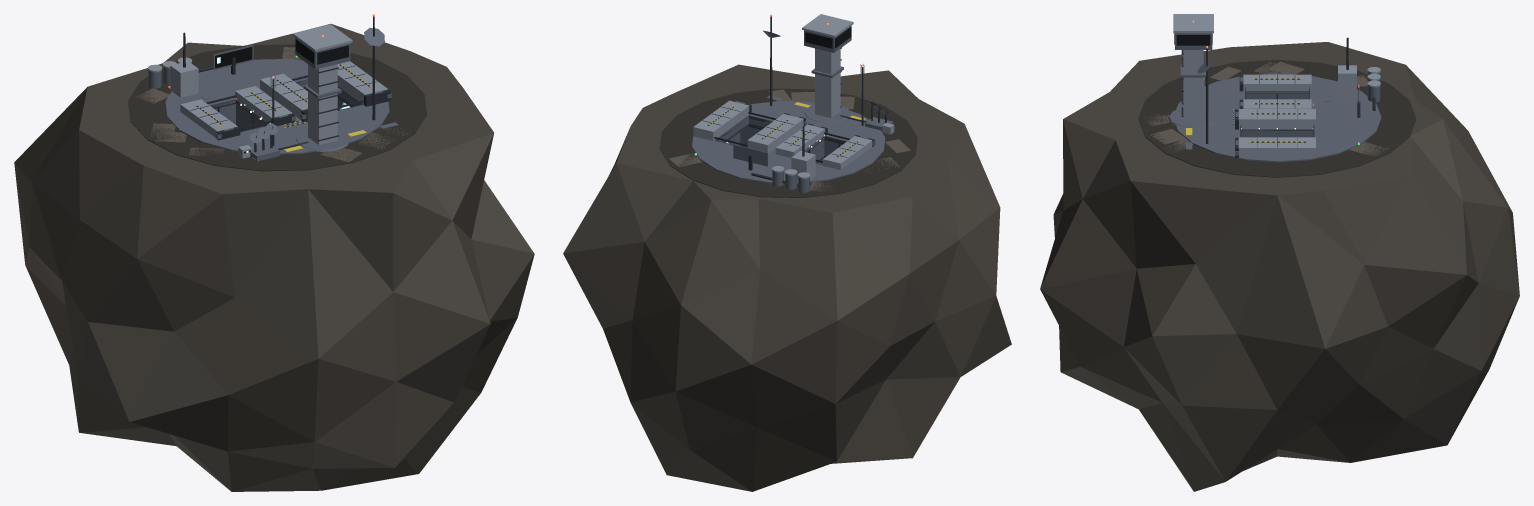
File: comet-m.glb
3 renders of one model, left to right at view 1: azimuth 30°, elevation 25°; view 2: azimuth 150°, elevation 25°; view 3: azimuth 270°, elevation 25°, orthographic. The views are drawn at different scales.
Visible parts, largest first — view 1: cometBody, plateauPad, plateauDeck, cometTowerShaft, berthLDeckDoorHouseL, berthLDeckDoorHouseR, berthSMDeckDoorHouseL, berthSMDeckDoorHouseR, cometTowerRoof, miningRig, cometTowerApron; view 2: cometBody, plateauPad, plateauDeck, cometTowerShaft, berthLDeckDoorHouseR, berthLDeckDoorHouseL, berthSMDeckDoorHouseL, berthSMDeckDoorHouseR, cometTowerRoof, miningRig, billboardFrame; view 3: cometBody, plateauPad, plateauDeck, berthLDeckDoorHouseR, berthLDeckDoorHouseL, cometTowerShaft, berthSMDeckDoorHouseL, cometTowerRoof, berthSMDeckDoorHouseR, miningRig, cometTowerApron.
Part boxes in pixels (x1=…): cometBody: x1=14, y1=24, x2=534, y2=491; plateauPad: x1=128, y1=44, x2=426, y2=171; plateauDeck: x1=165, y1=59, x2=389, y2=154; cometTowerShaft: x1=308, y1=64, x2=337, y2=144; berthLDeckDoorHouseL: x1=260, y1=73, x2=307, y2=119; berthLDeckDoorHouseR: x1=337, y1=61, x2=387, y2=104; berthSMDeckDoorHouseL: x1=180, y1=99, x2=237, y2=137; berthSMDeckDoorHouseR: x1=235, y1=86, x2=292, y2=123; cometTowerRoof: x1=293, y1=24, x2=352, y2=51; miningRig: x1=170, y1=61, x2=198, y2=97; cometTowerApron: x1=296, y1=130, x2=349, y2=151; cometBody: x1=563, y1=64, x2=1011, y2=491; plateauPad: x1=659, y1=88, x2=917, y2=197; plateauDeck: x1=692, y1=101, x2=885, y2=183; cometTowerShaft: x1=815, y1=48, x2=840, y2=117; berthLDeckDoorHouseR: x1=693, y1=100, x2=749, y2=140; berthLDeckDoorHouseL: x1=747, y1=114, x2=803, y2=153; berthSMDeckDoorHouseL: x1=823, y1=136, x2=872, y2=169; berthSMDeckDoorHouseR: x1=775, y1=124, x2=825, y2=157; cometTowerRoof: x1=802, y1=14, x2=853, y2=37; miningRig: x1=791, y1=151, x2=815, y2=180; billboardFrame: x1=733, y1=144, x2=767, y2=166; cometBody: x1=1040, y1=42, x2=1519, y2=491; plateauPad: x1=1138, y1=59, x2=1416, y2=177; plateauDeck: x1=1175, y1=73, x2=1381, y2=162; berthLDeckDoorHouseR: x1=1238, y1=137, x2=1315, y2=157; berthLDeckDoorHouseL: x1=1238, y1=109, x2=1315, y2=129; cometTowerShaft: x1=1183, y1=50, x2=1203, y2=120; berthSMDeckDoorHouseL: x1=1243, y1=74, x2=1311, y2=90; cometTowerRoof: x1=1173, y1=14, x2=1213, y2=33; berthSMDeckDoorHouseR: x1=1243, y1=99, x2=1311, y2=108; miningRig: x1=1338, y1=65, x2=1356, y2=96; cometTowerApron: x1=1168, y1=107, x2=1218, y2=127.
Bounding box in the file's own units: 86.74 × 88.74 × 90.08.
